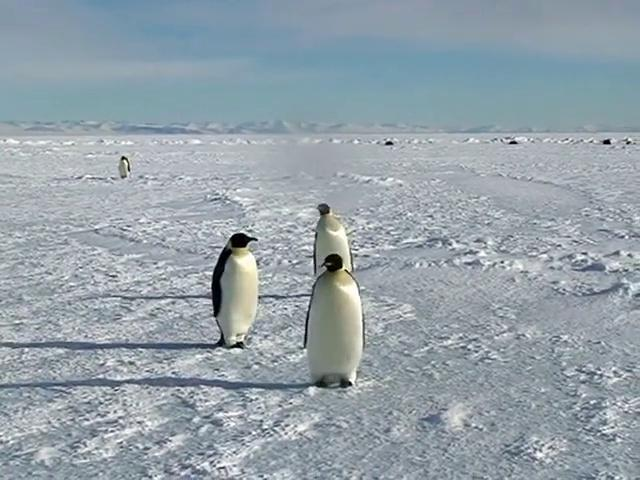animal: (315, 205, 355, 277)
